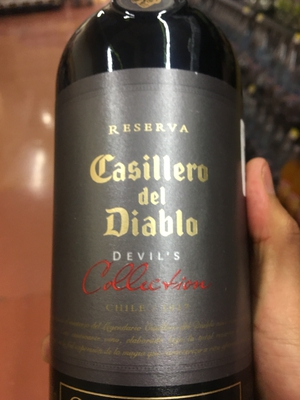casillero del diablo devils collection rojo: (46, 12, 257, 400)
